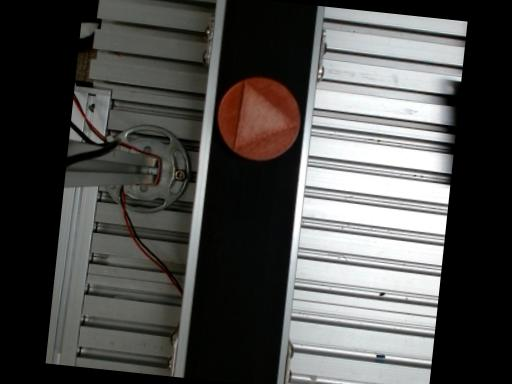Brown_Waper: (217, 77, 299, 159)
Not_Square: (234, 79, 299, 151)
